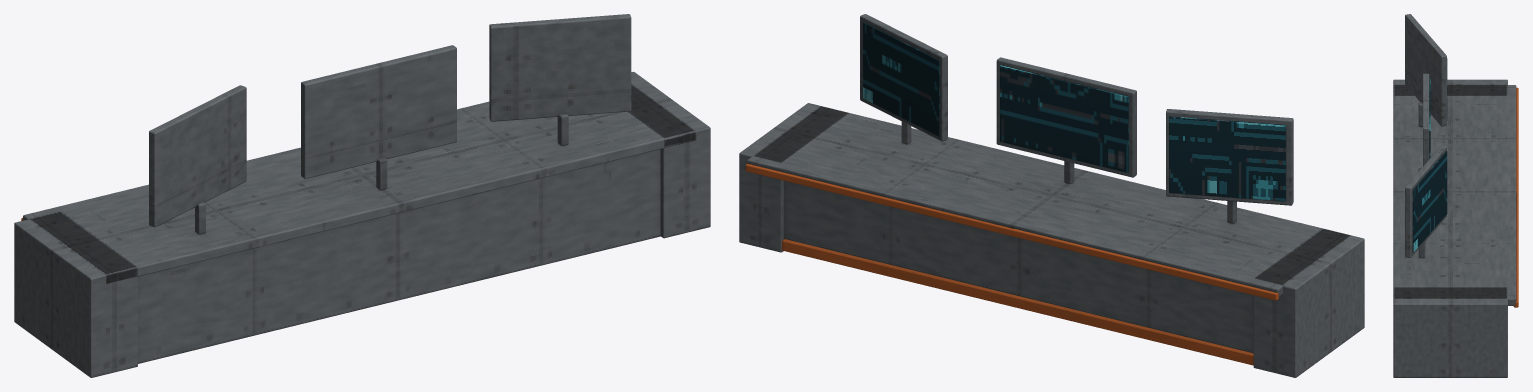
The model's file is base_dispatch_console.glb.
3 views of the same model, side by side, from view 1: azimuth 30°, elevation 25°; view 2: azimuth 150°, elevation 25°; view 3: azimuth 270°, elevation 25° (orthographic). The views are drawn at different scales.
Visible parts, largest first — view 1: base_dispatch_console.003; view 2: base_dispatch_console.003; view 3: base_dispatch_console.003.
Boxes of the visible parts, x1=… form: base_dispatch_console.003: x1=14, y1=14, x2=710, y2=377; base_dispatch_console.003: x1=739, y1=14, x2=1364, y2=377; base_dispatch_console.003: x1=1393, y1=14, x2=1518, y2=377.
Size of the model in its own units: 6.5 by 2.22 by 1.53.
Materials: 3 (3 with a texture image).
